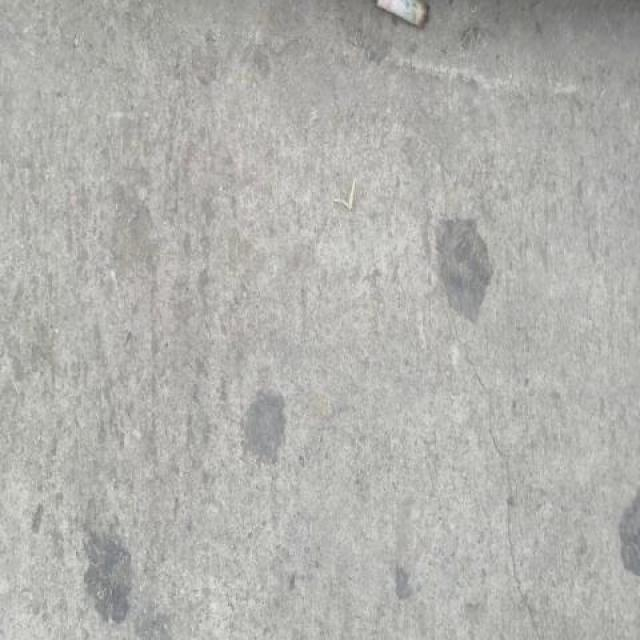non-organic waste: (373, 0, 431, 32)
